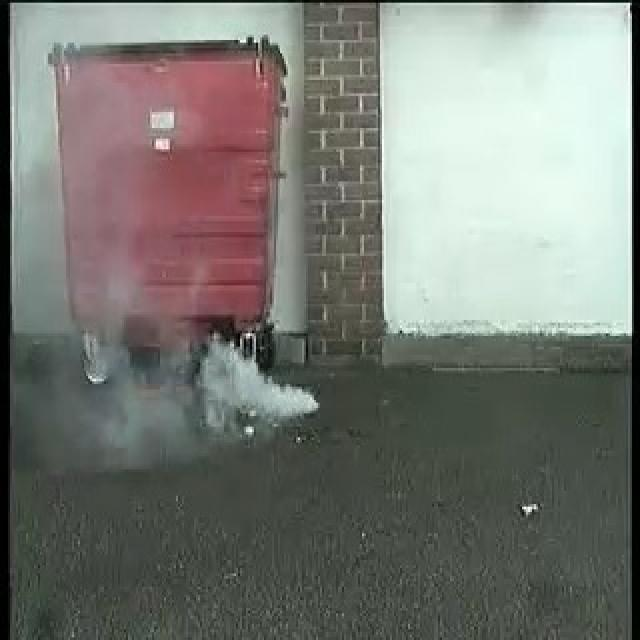smoke: (107, 331, 320, 452)
